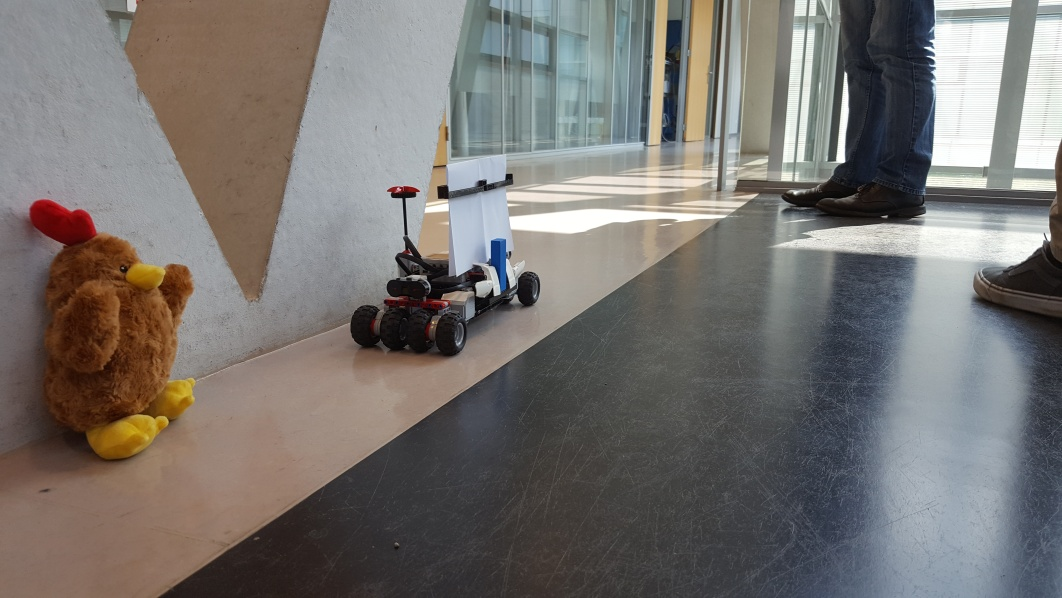car: (352, 153, 541, 355)
chicken: (22, 197, 198, 459)
